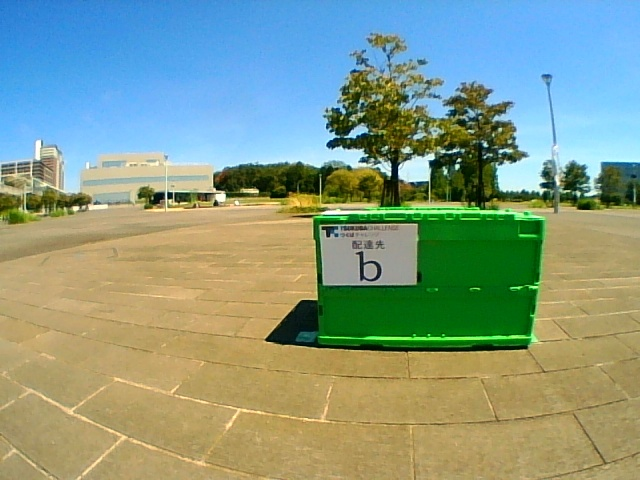green_box: (314, 209, 543, 347)
tag_b: (321, 224, 415, 284)
